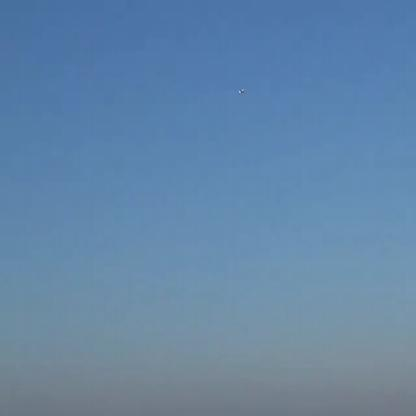CIV_Plane: (238, 88, 246, 94)
